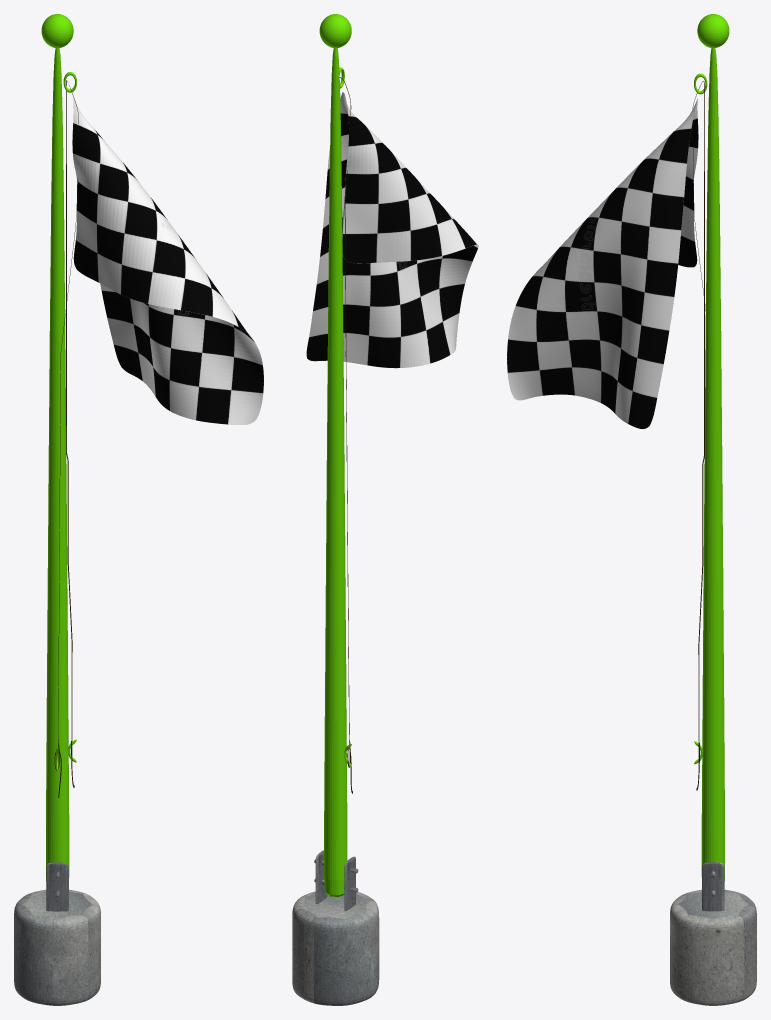
The model's file is flag.fbx.
3 views of the same model, side by side, from view 1: azimuth 90°, elevation 25°; view 2: azimuth 150°, elevation 25°; view 3: azimuth 270°, elevation 25° (orthographic).
Visible parts, largest first — view 1: flag, flag_poll, flag_poll_bass, rope, poll_bracket_2; view 2: flag, flag_poll, flag_poll_bass, rope, poll_bracket_2, poll_bracket_1; view 3: flag, flag_poll, flag_poll_bass, rope, poll_bracket_1.
Part boxes in pixels (x1,y1,x2,y2): flag: (72, 98, 263, 424); flag_poll: (41, 14, 76, 880); flag_poll_bass: (14, 889, 100, 1005); rope: (54, 80, 78, 797); poll_bracket_2: (46, 862, 68, 911); flag: (306, 92, 478, 368); flag_poll: (319, 14, 351, 896); flag_poll_bass: (292, 891, 379, 1005); rope: (339, 77, 352, 793); poll_bracket_2: (344, 856, 355, 911); poll_bracket_1: (315, 850, 327, 904); flag: (507, 98, 698, 429); flag_poll: (694, 14, 729, 880); flag_poll_bass: (670, 889, 756, 1005); rope: (692, 81, 705, 790); poll_bracket_1: (702, 862, 724, 911).
Size of the model in its own units: 123 by 892 by 207.
5 materials, 3 textured.
